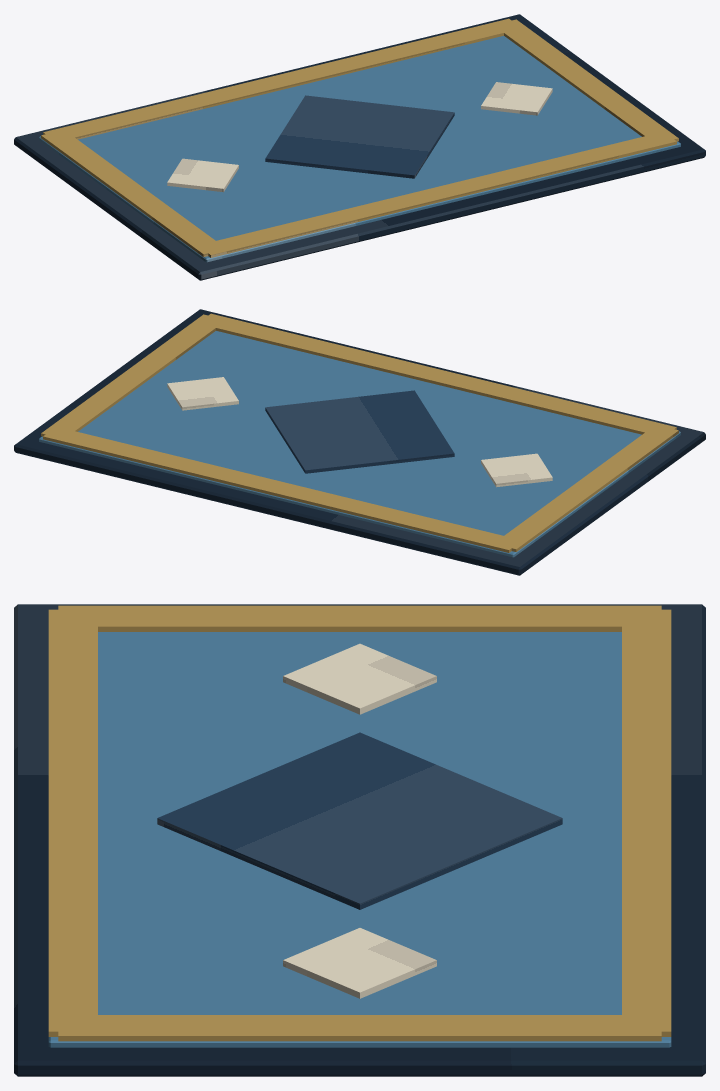
The model's file is hotel_carpet_navy.glb.
3 renders of one model, top to bottom at view 1: azimuth 30°, elevation 25°; view 2: azimuth 150°, elevation 25°; view 3: azimuth 270°, elevation 25°, orthographic. The views are drawn at different scales.
Visible parts, largest first — view 1: HotelField, TextileBase, HotelMedallion, HotelBorderB, HotelBorderF, HotelBorderR, HotelBorderL, HotelCornerMark_0, HotelCornerMark_1; view 2: HotelField, TextileBase, HotelMedallion, HotelBorderF, HotelBorderB, HotelBorderR, HotelBorderL, HotelCornerMark_0, HotelCornerMark_1; view 3: HotelField, TextileBase, HotelMedallion, HotelBorderB, HotelBorderF, HotelBorderR, HotelBorderL, HotelCornerMark_0, HotelCornerMark_1.
Boxes of the visible parts, box(x1,y1,x2,y2) form: HotelField: box(39, 36, 680, 262); TextileBase: box(14, 14, 705, 280); HotelMedallion: box(265, 95, 454, 178); HotelBorderB: box(43, 18, 521, 141); HotelBorderF: box(198, 132, 676, 257); HotelBorderR: box(493, 19, 678, 143); HotelBorderL: box(41, 134, 223, 256); HotelCornerMark_0: box(167, 158, 238, 192); HotelCornerMark_1: box(481, 82, 552, 115); HotelField: box(39, 331, 680, 557); TextileBase: box(14, 309, 705, 575); HotelMedallion: box(265, 390, 454, 473); HotelBorderF: box(198, 313, 676, 436); HotelBorderB: box(43, 426, 521, 552); HotelBorderR: box(41, 314, 226, 438); HotelBorderL: box(495, 429, 678, 551); HotelCornerMark_0: box(481, 453, 552, 487); HotelCornerMark_1: box(167, 377, 238, 410); HotelField: box(48, 632, 671, 1047); TextileBase: box(14, 604, 705, 1076); HotelMedallion: box(157, 732, 562, 909); HotelBorderB: box(622, 609, 671, 1036); HotelBorderF: box(48, 609, 97, 1036); HotelBorderR: box(58, 1015, 661, 1041); HotelBorderL: box(58, 605, 661, 631); HotelCornerMark_0: box(283, 643, 436, 714); HotelCornerMark_1: box(283, 928, 436, 998).
Size of the model in its own units: 2.2 by 0.068 by 1.4.
1 material, 1 textured.
